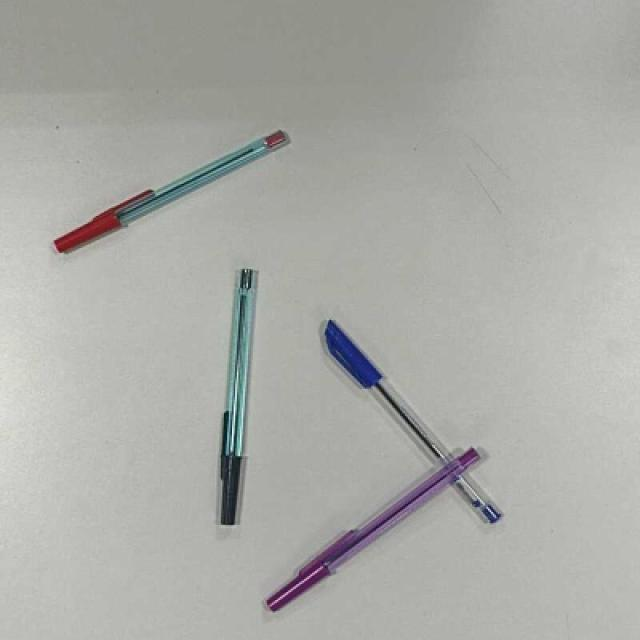caneta: (313, 319, 501, 532), (262, 440, 482, 616), (52, 125, 289, 258), (216, 268, 256, 526)
